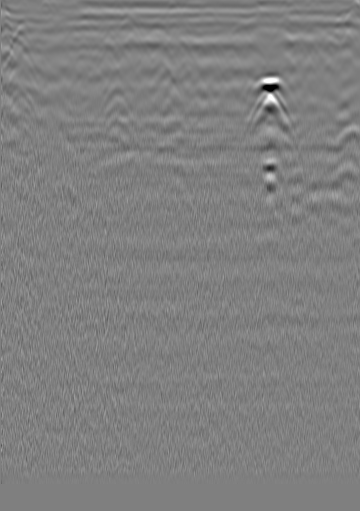가스: (252, 155, 289, 196)
상수: (5, 23, 25, 43)
오수: (308, 14, 328, 34)
우수: (146, 20, 166, 40)
